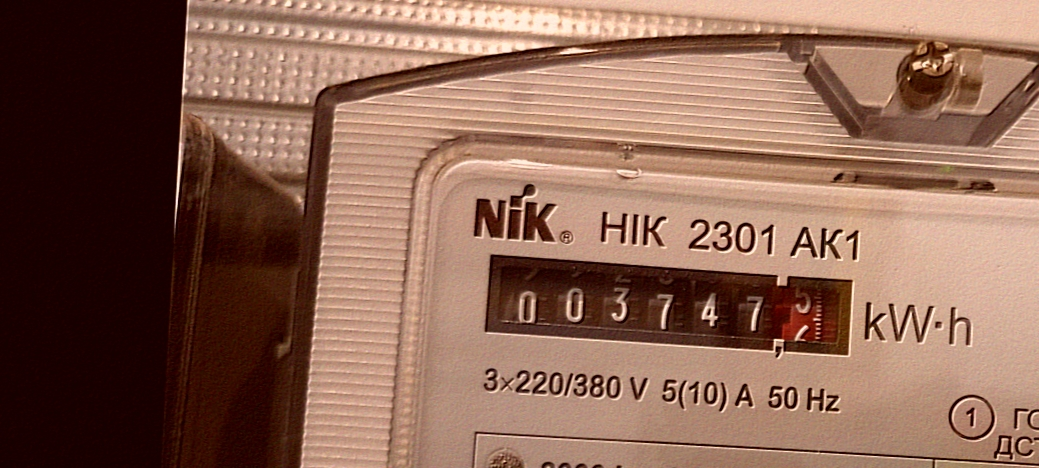0: (562, 283, 585, 322), (515, 287, 539, 323)
3: (609, 284, 629, 322)
4: (697, 287, 720, 329)
5: (792, 284, 813, 314)
6: (791, 320, 810, 342)
7: (741, 291, 765, 332), (652, 289, 674, 330)
screen: (474, 242, 868, 370)
